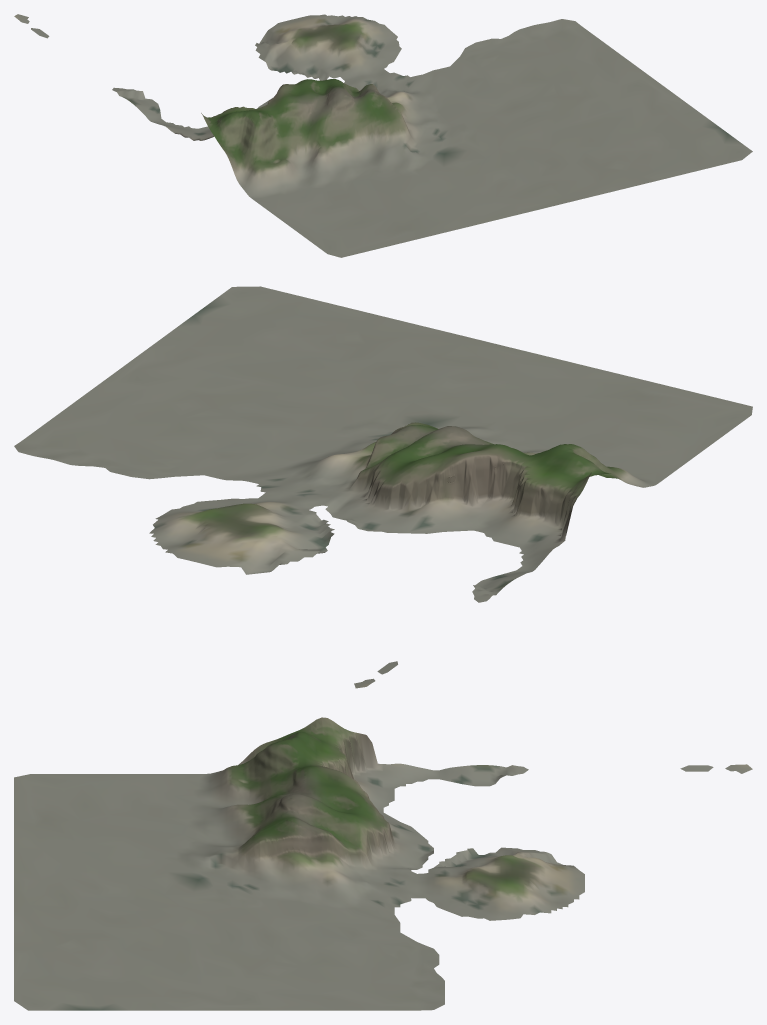
The model's file is coast_tile_x1z3_lod1.glb.
The picture shows the model from 3 angles, top to bottom: view 1: azimuth 30°, elevation 25°; view 2: azimuth 150°, elevation 25°; view 3: azimuth 270°, elevation 25°; orthographic projection. The views are drawn at different scales.
Parts seen in each view (by area): view 1: coast_tile_x1z3_lod1; view 2: coast_tile_x1z3_lod1; view 3: coast_tile_x1z3_lod1.
Part boxes in pixels (x1,y1,x2,y2): coast_tile_x1z3_lod1: (14,14,752,257); coast_tile_x1z3_lod1: (14,286,752,688); coast_tile_x1z3_lod1: (14,717,752,1010).
Bounding box in the file's own units: 600 × 66.88 × 792.
